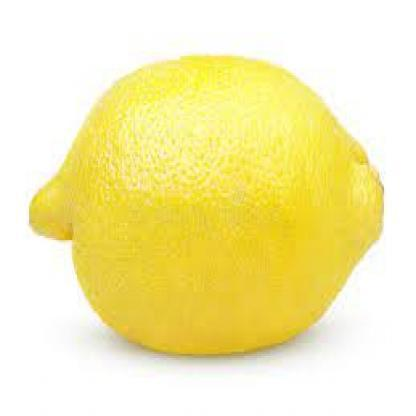lemon: (29, 53, 386, 356)
